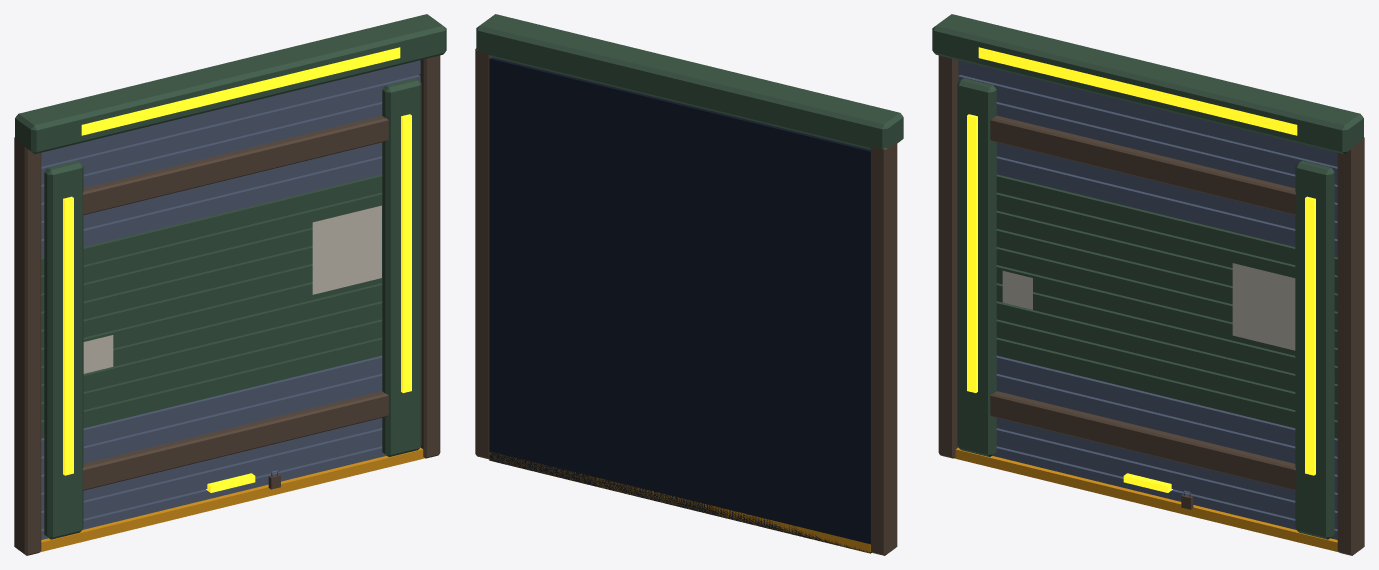
File: city_shutter.glb
3 views of the same model, side by side, from view 1: azimuth 30°, elevation 25°; view 2: azimuth 150°, elevation 25°; view 3: azimuth 330°, elevation 25° (orthographic).
Visible parts, largest first — view 1: roller_box, guide, pull_handle, guide.001, slat.020, slat.005, slat.006, slat.015, slat.007, slat.008, slat.016, slat.021 (+15 smaller); view 2: backing, roller_box, guide, guide.001, bottom_rail; view 3: roller_box, guide, guide.001, pull_handle, slat.020, slat.005, slat.006, slat.015, slat.007, slat.008, slat.016, slat.021 (+15 smaller).
Part boxes in pixels (x1,y1,x2,y2): roller_box: (15,14,446,539); guide: (14,115,388,555); pull_handle: (63,47,411,492); guide.001: (419,55,440,458); slat.020: (41,75,420,184); slat.005: (41,355,382,456); slat.006: (41,337,382,438); slat.015: (41,174,382,275); slat.007: (41,319,382,420); slat.008: (41,301,382,402); slat.016: (41,156,382,257); slat.021: (41,60,420,166); backing: (489,57,871,553); roller_box: (476,14,903,150); guide: (870,142,897,555); guide.001: (475,48,492,459); bottom_rail: (489,452,870,552); roller_box: (932,14,1363,539); guide: (938,55,1296,490); guide.001: (1337,137,1364,555); pull_handle: (967,47,1315,492); slat.020: (958,75,1337,184); slat.005: (996,355,1337,456); slat.006: (996,337,1337,438); slat.015: (996,174,1337,275); slat.007: (996,319,1337,420); slat.008: (996,301,1337,402); slat.016: (996,156,1337,257); slat.021: (958,60,1337,166).
Bounding box in the file's own units: 3 × 3 × 0.2505.
